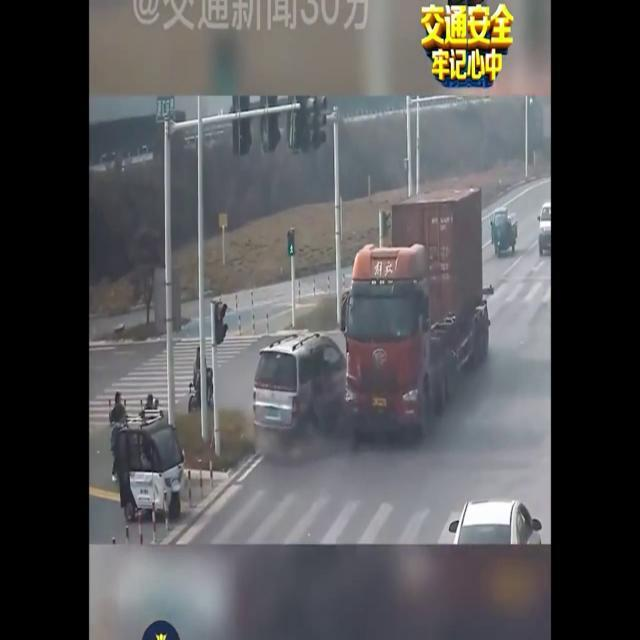multiple_accident: (226, 169, 485, 465)
